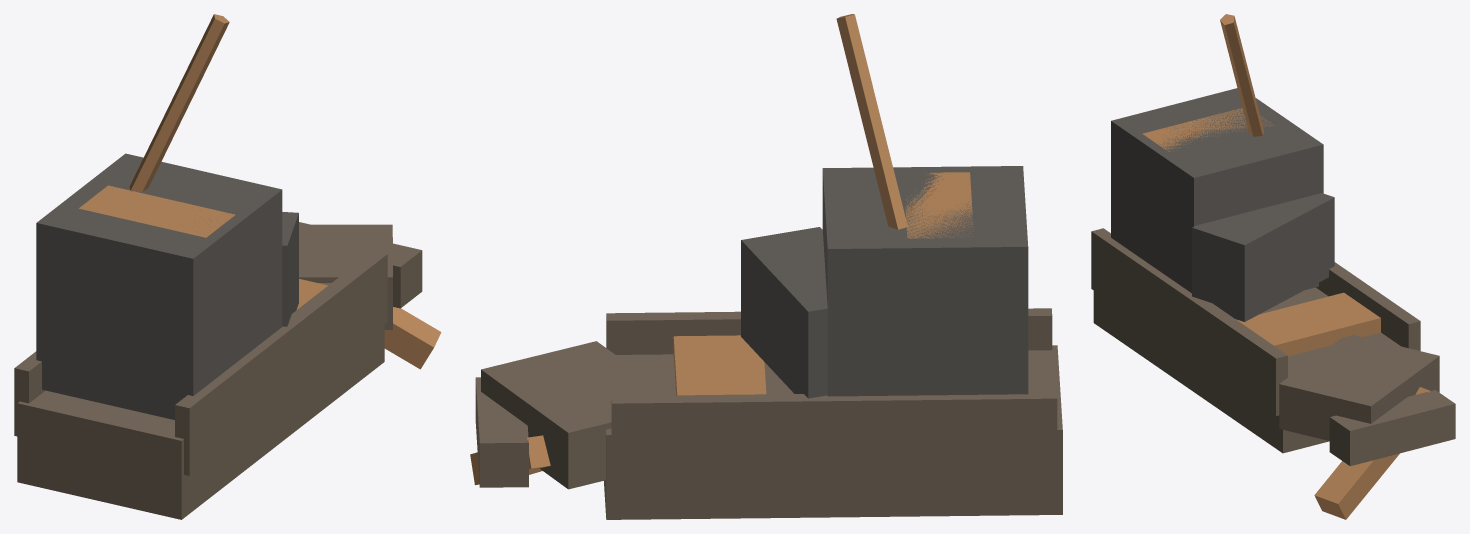
Rendered from prop_skiff.glb.
The picture shows the model from 3 angles, left to right: view 1: azimuth 30°, elevation 25°; view 2: azimuth 150°, elevation 25°; view 3: azimuth 270°, elevation 25°; orthographic projection. The views are drawn at different scales.
Visible parts, largest first — view 1: skiff; view 2: skiff; view 3: skiff.
Boxes of the visible parts, box(x1,y1,x2,y2) form: skiff: box(14, 14, 441, 519); skiff: box(470, 14, 1062, 519); skiff: box(1091, 14, 1455, 519).
Size of the model in its own units: 2.72 by 2.43 by 2.06.
